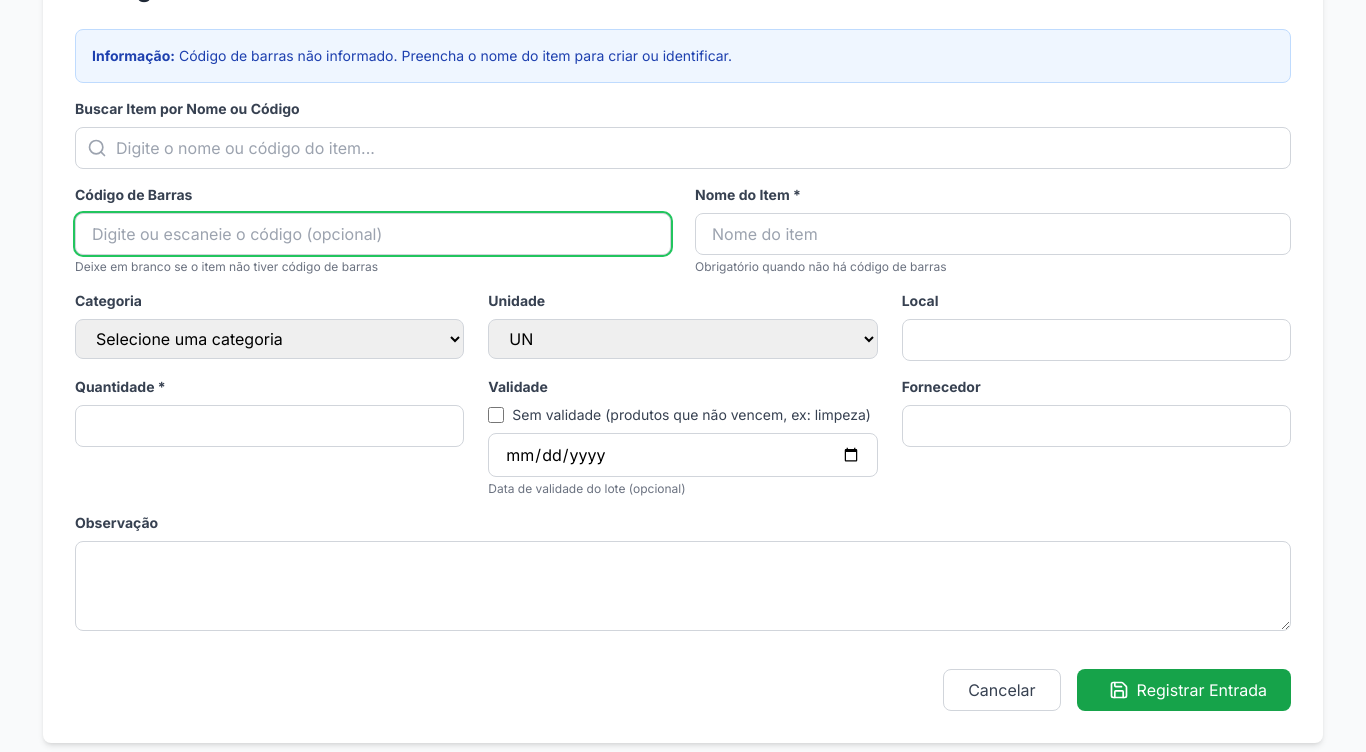
Test case: Entry Component › deve validar campos obrigatórios ao submeter
(page scrolled)
Click the button "Registrar Entrada": x=1184, y=690 [1077,669,1291,711]
(page scrolled)
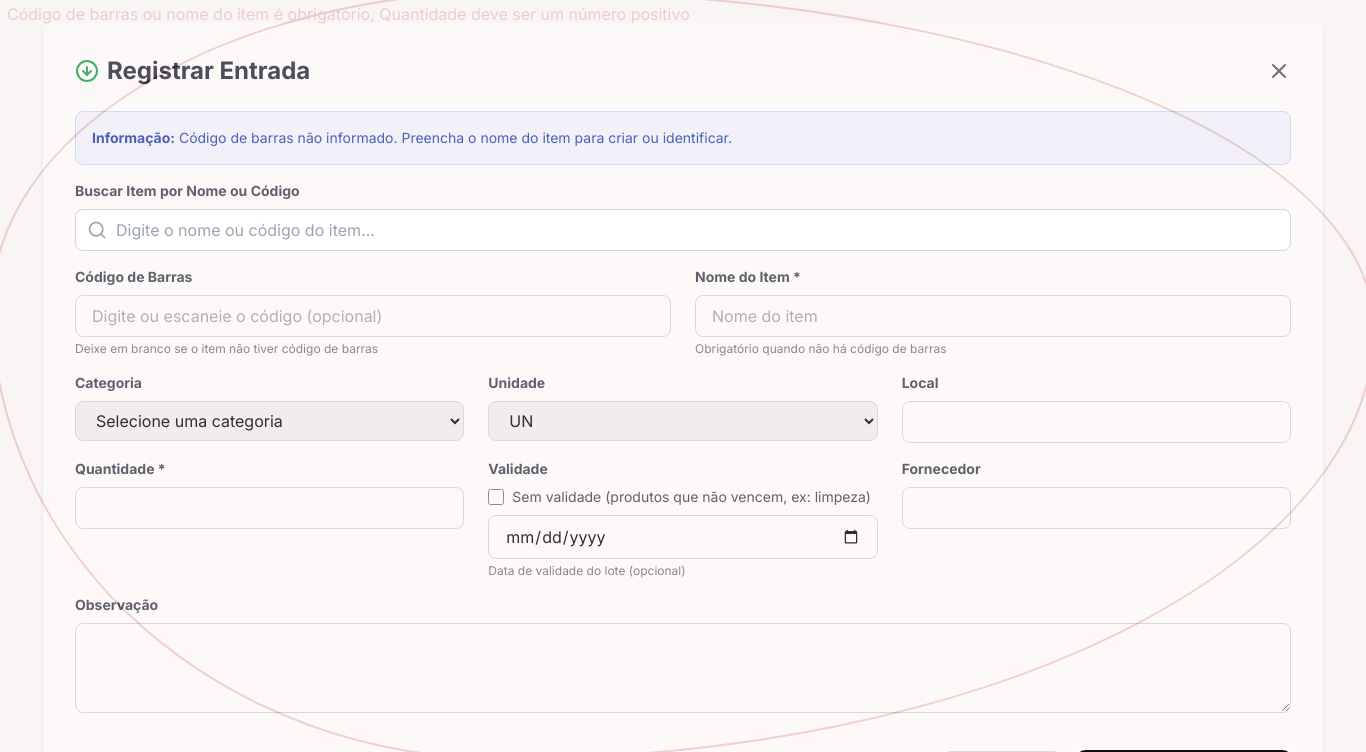
Now the text "Quantidade" is shown, box [7,4,690,24]
